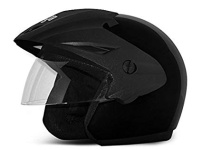Helmet: (12, 6, 189, 148)
